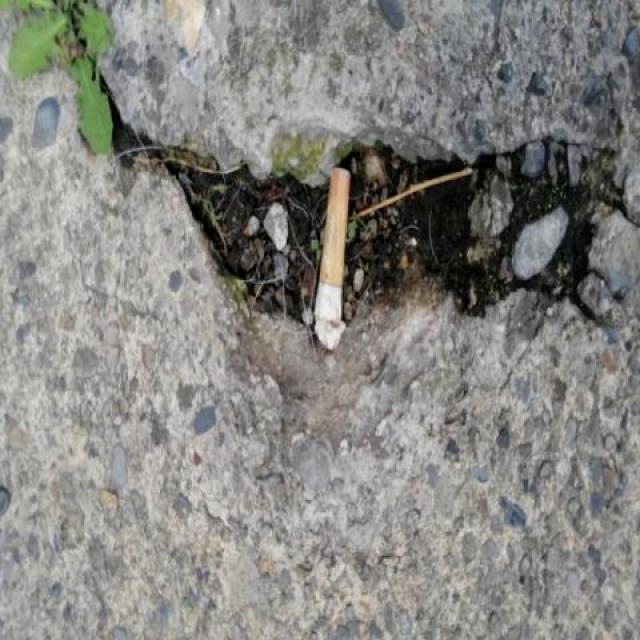non-organic waste: (312, 162, 352, 354)
